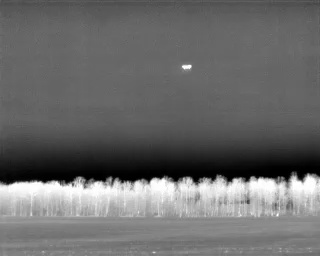DRONE: (179, 60, 196, 75)
